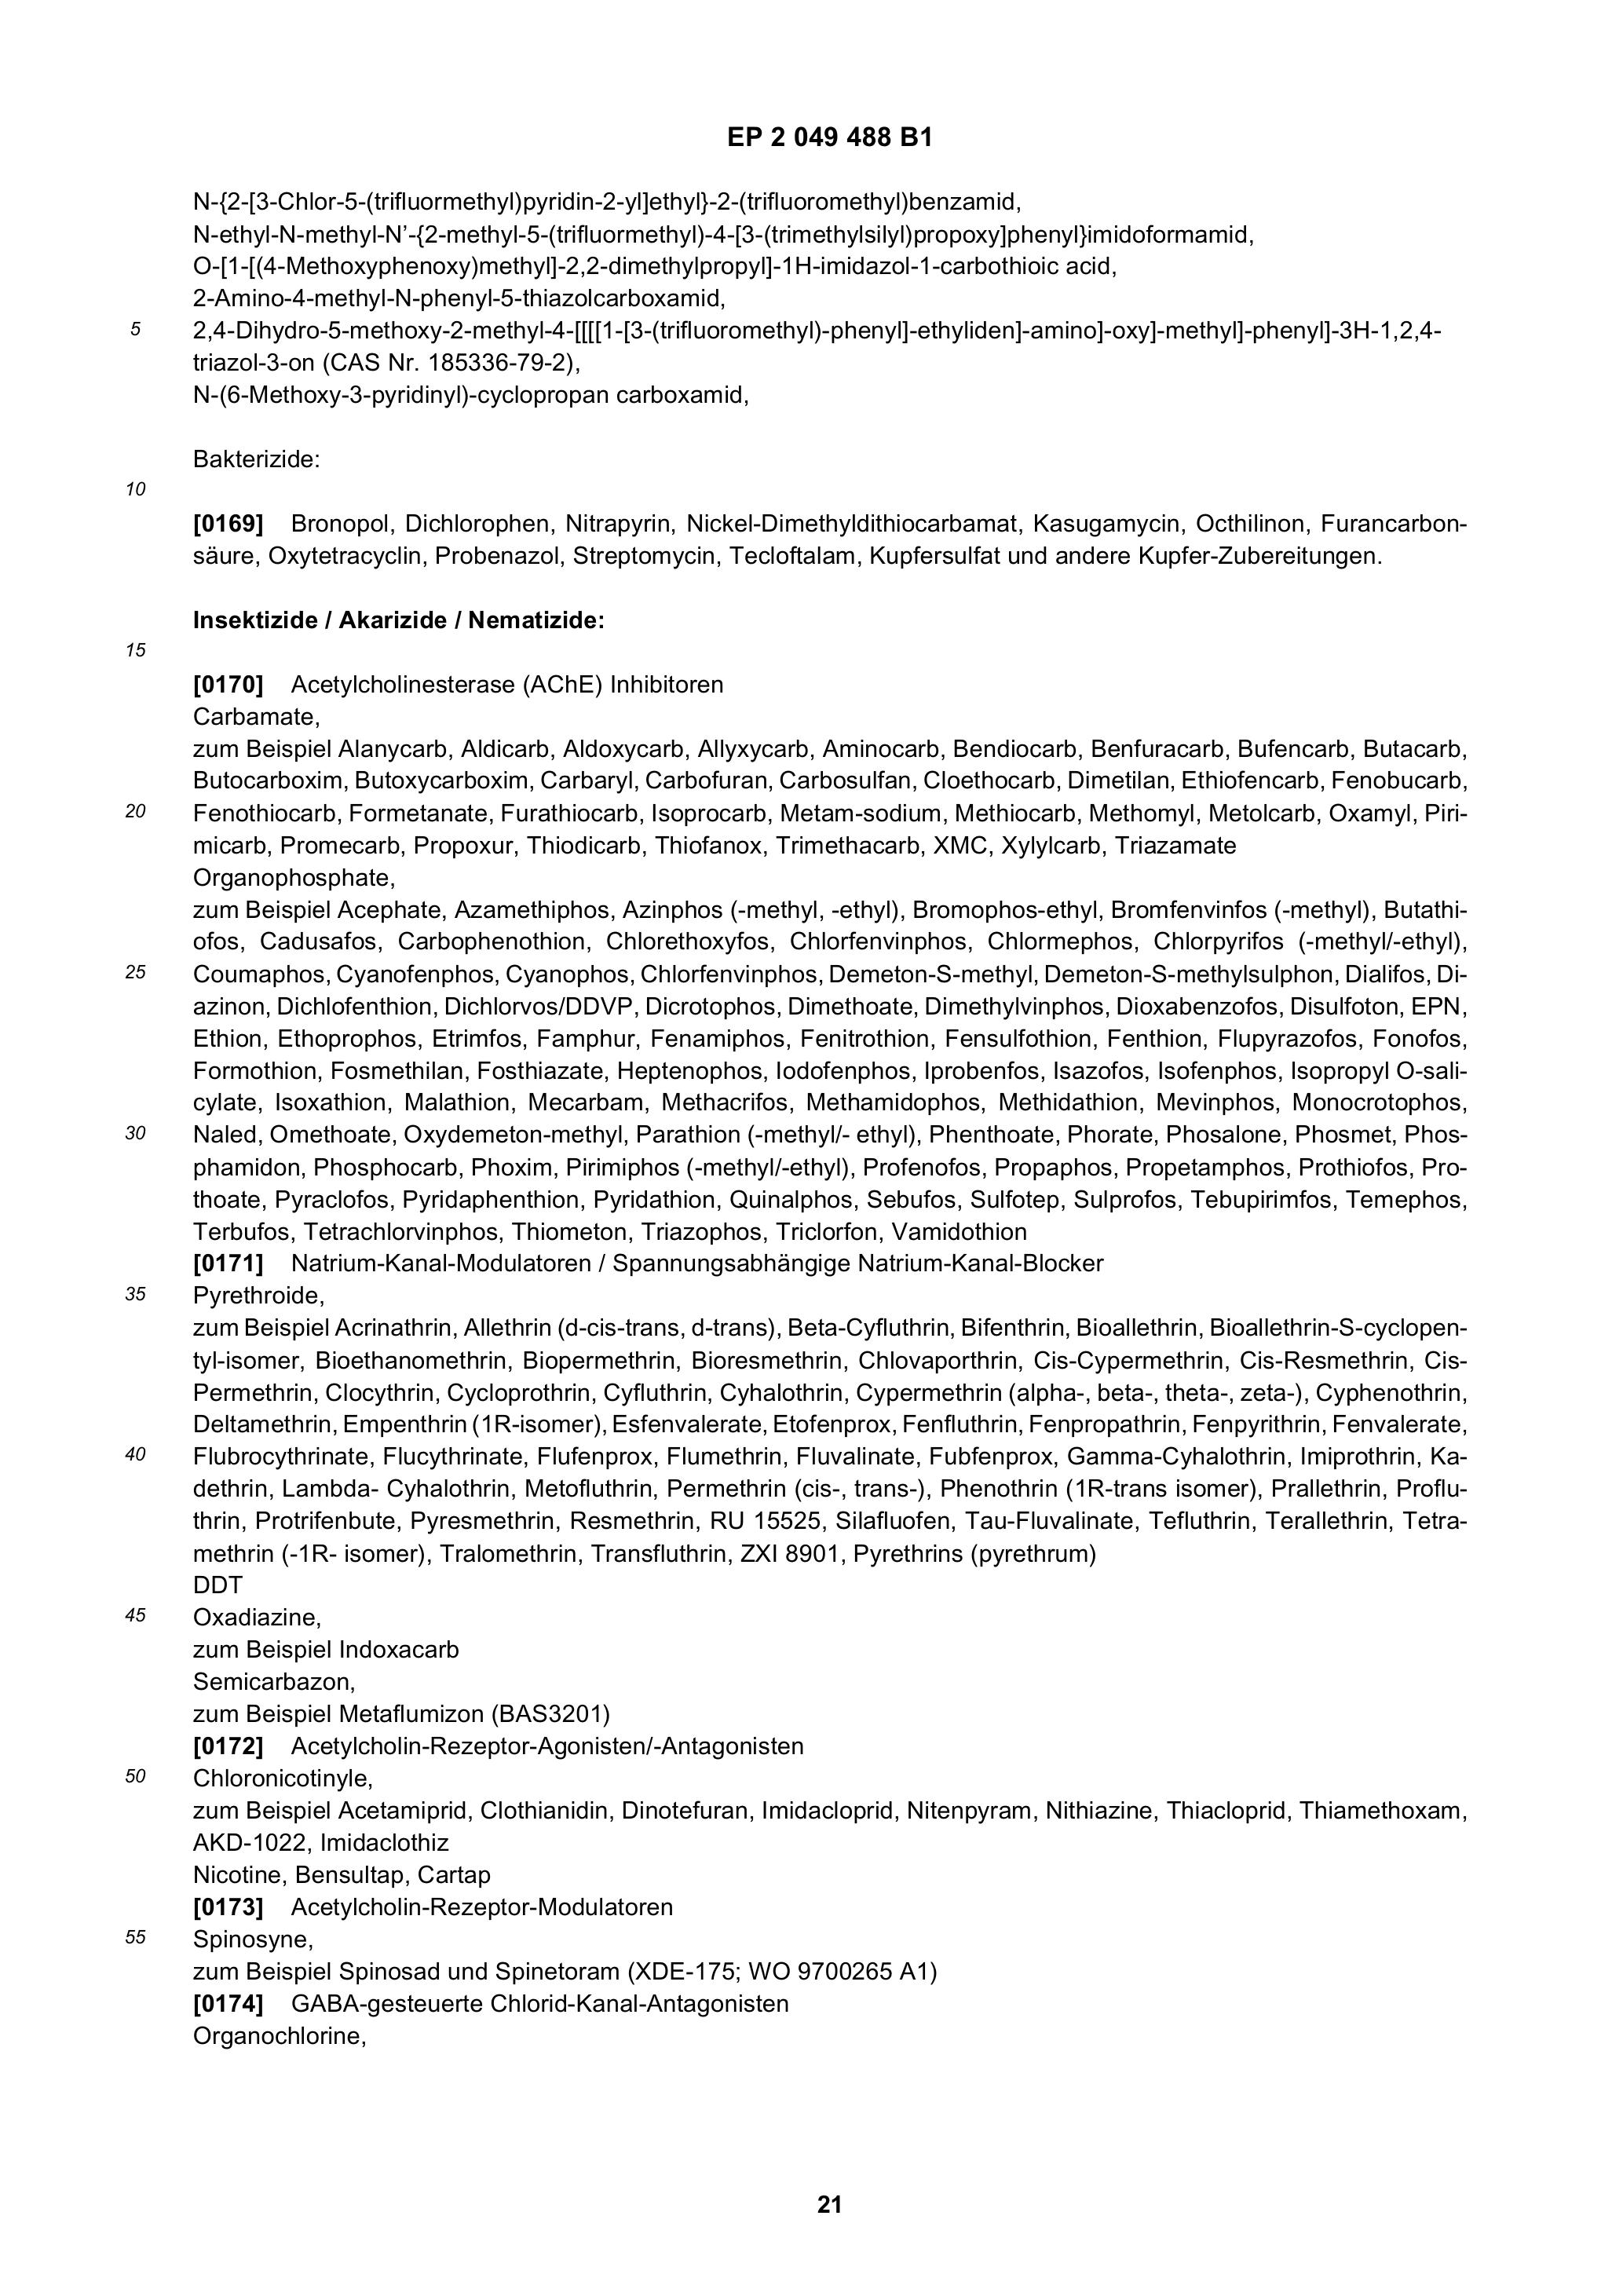substitutes: (167, 188, 1493, 437)
